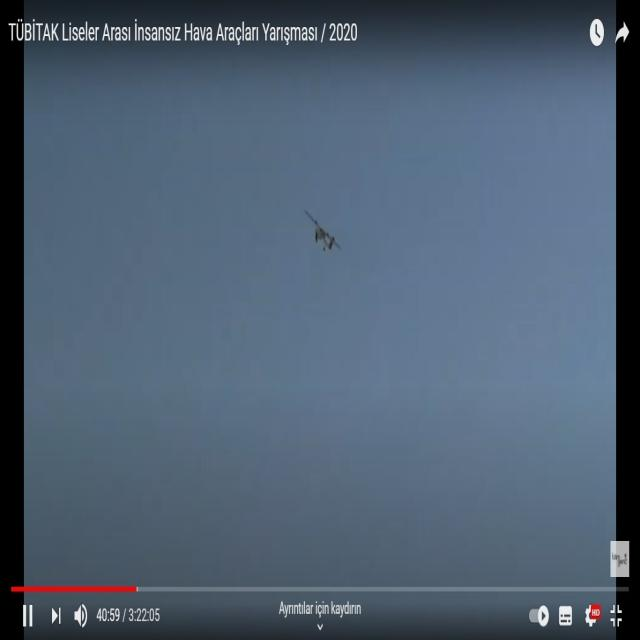iha: (304, 209, 340, 253)
